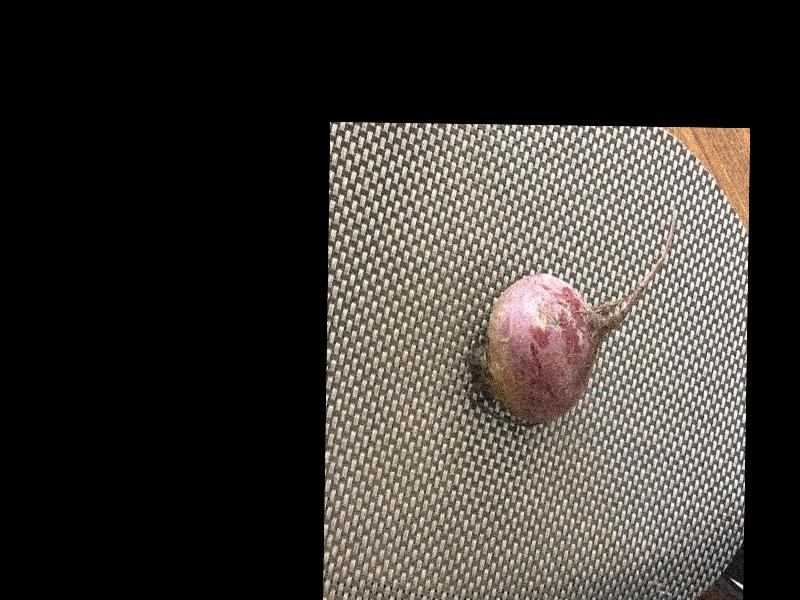Beet: (465, 206, 677, 426)
